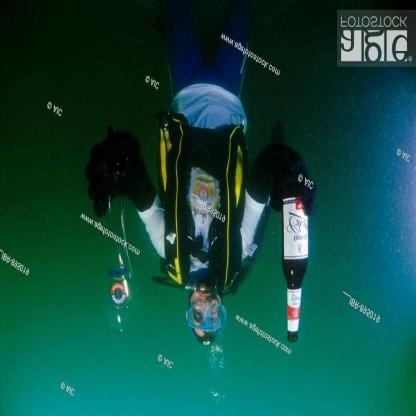gbottle: (281, 180, 309, 343)
misc: (105, 162, 142, 332)
